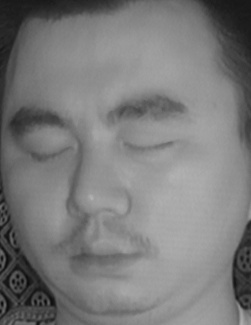blink: (122, 129, 177, 167), (24, 135, 77, 173)
mouth: (59, 229, 148, 281)
